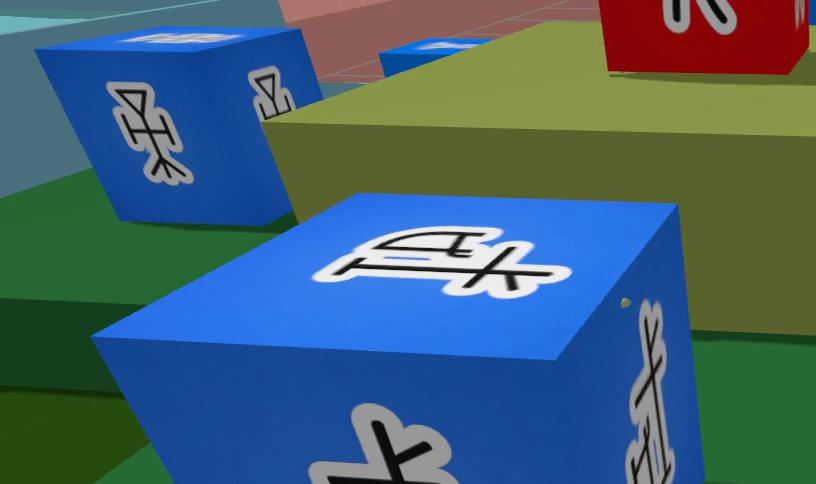KFS_FAKE: (600, 0, 810, 74)
KFS_REAL: (36, 26, 321, 225), (313, 226, 571, 298), (308, 404, 460, 484), (105, 82, 193, 185), (626, 300, 675, 484), (248, 65, 295, 120)
